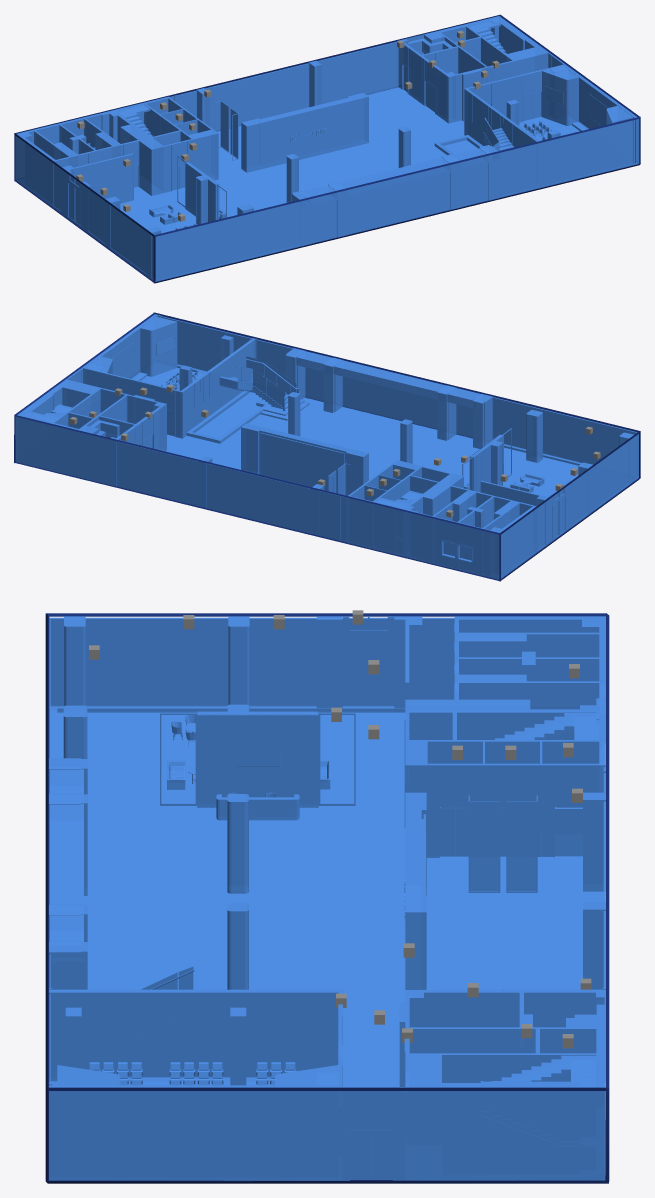
The picture shows the model from 3 angles, top to bottom: view 1: azimuth 30°, elevation 25°; view 2: azimuth 150°, elevation 25°; view 3: azimuth 270°, elevation 25°; orthographic projection. The views are drawn at different scales.
Visible parts, largest first — view 1: qiangti1 (×2), Rectangledimian, guangdai1; view 2: qiangti1 (×2), Rectangledimian, guangdai1; view 3: qiangti1 (×2), Rectangledimian, guangdai1.
Boxes of the visible parts, x1,y1,x2,y2 form: qiangti1 (×2): [15, 16, 639, 281]; Rectangledimian: [120, 87, 579, 233]; guangdai1: [14, 14, 640, 283]; qiangti1 (×2): [15, 314, 638, 579]; Rectangledimian: [140, 368, 578, 496]; guangdai1: [14, 312, 640, 581]; qiangti1 (×2): [49, 616, 605, 1180]; Rectangledimian: [84, 712, 603, 1086]; guangdai1: [45, 613, 609, 1183].
Bounding box in the file's own units: 52.08 × 26.11 × 5.15.
